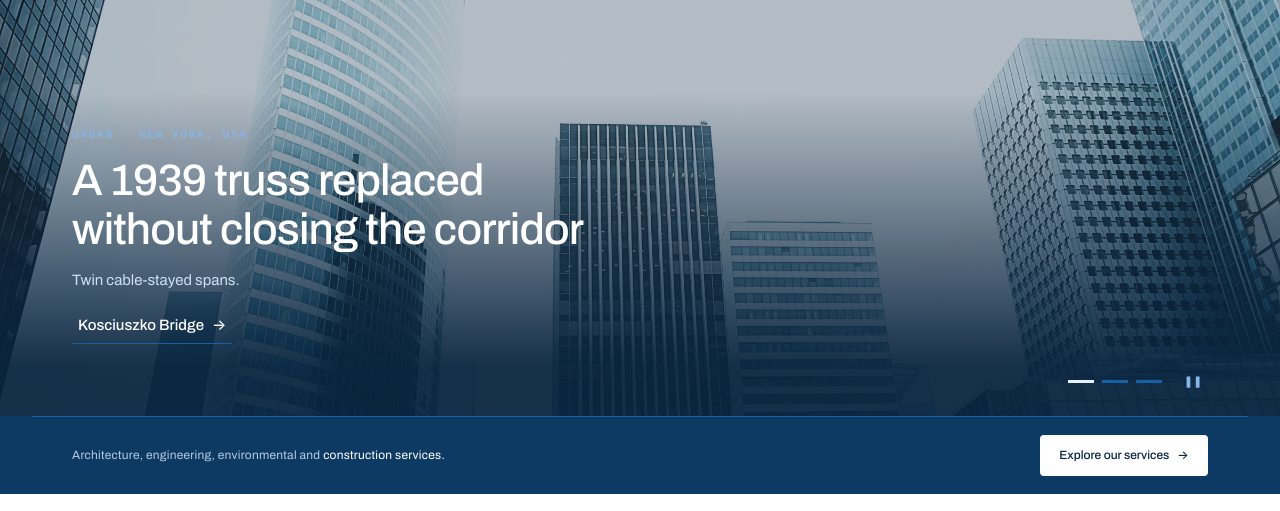
Test: HeroCarousel › pointer capture › opens the caption after a press that never moved
Press the mouse on the element with class "hero__viewport" at (640, 208), box [0, 0, 1279, 416]
Click the button with class "slide__link" at (152, 328), box [72, 312, 232, 344]
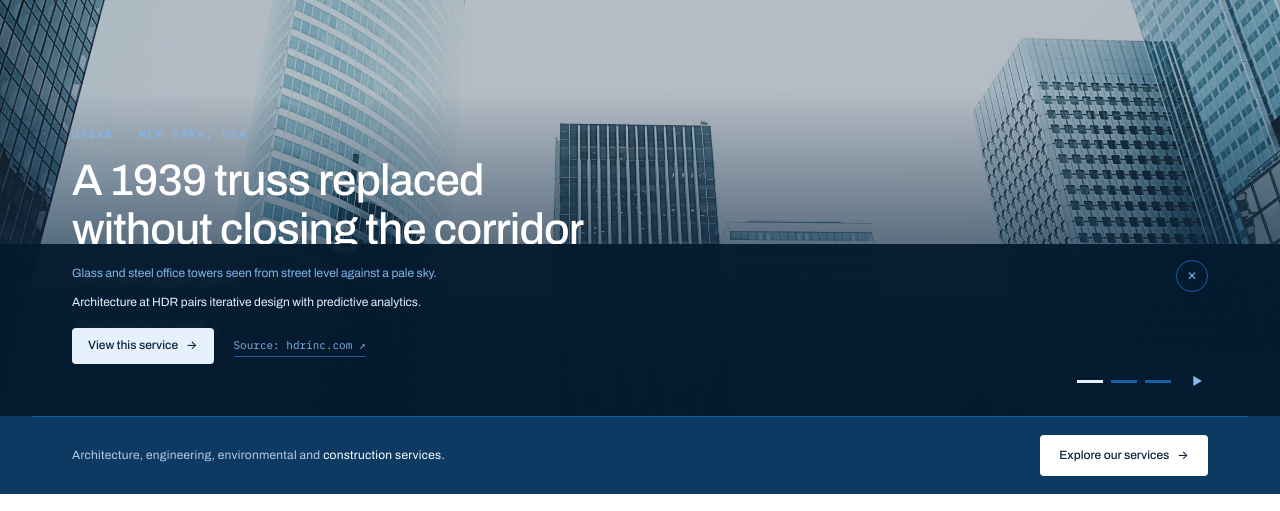
Check: the element with class "caption" is shown, box [0, 244, 1279, 416]
